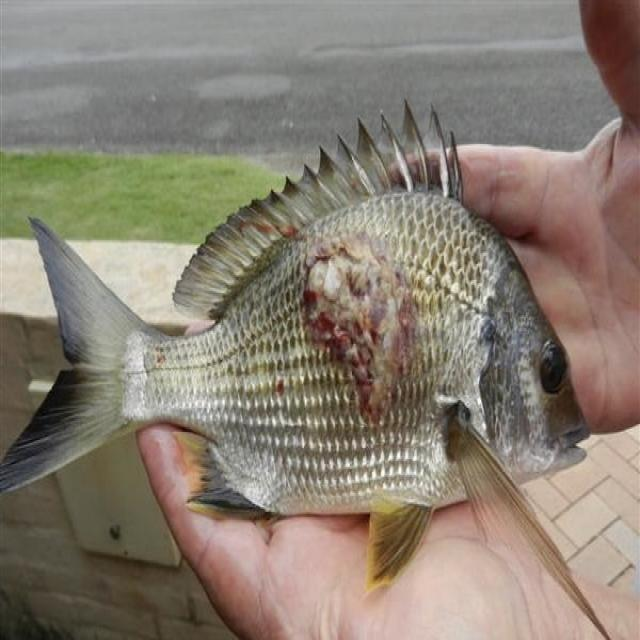EUS Disease: (2, 105, 632, 640), (141, 205, 465, 451)
